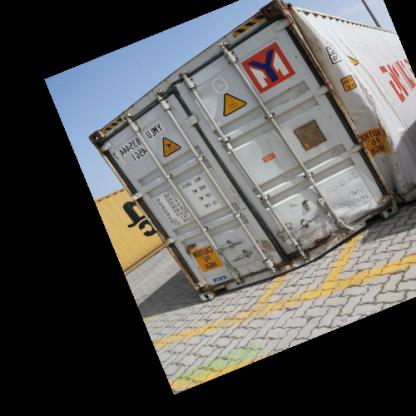Damage: (307, 33, 396, 183), (278, 188, 336, 255), (158, 72, 194, 104), (178, 234, 207, 262)
